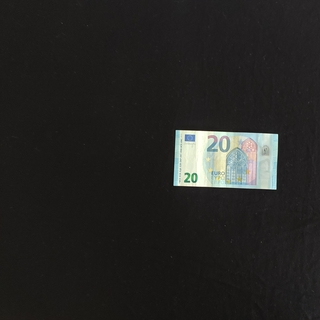20EUROFront: (173, 129, 278, 190)
